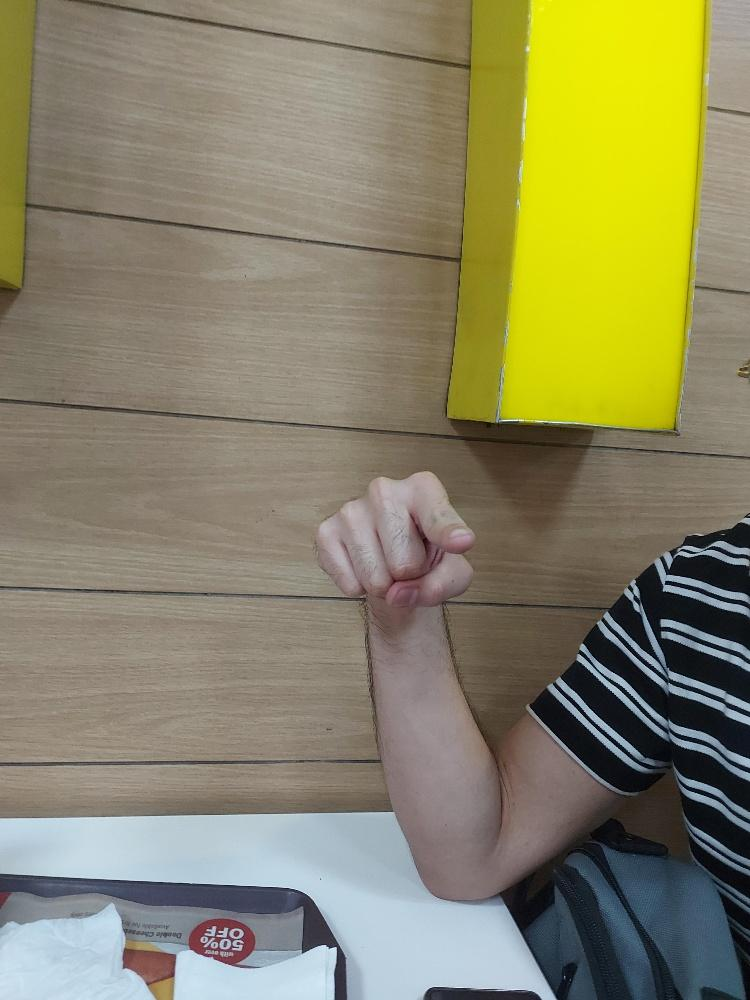z: (310, 464, 477, 606)
